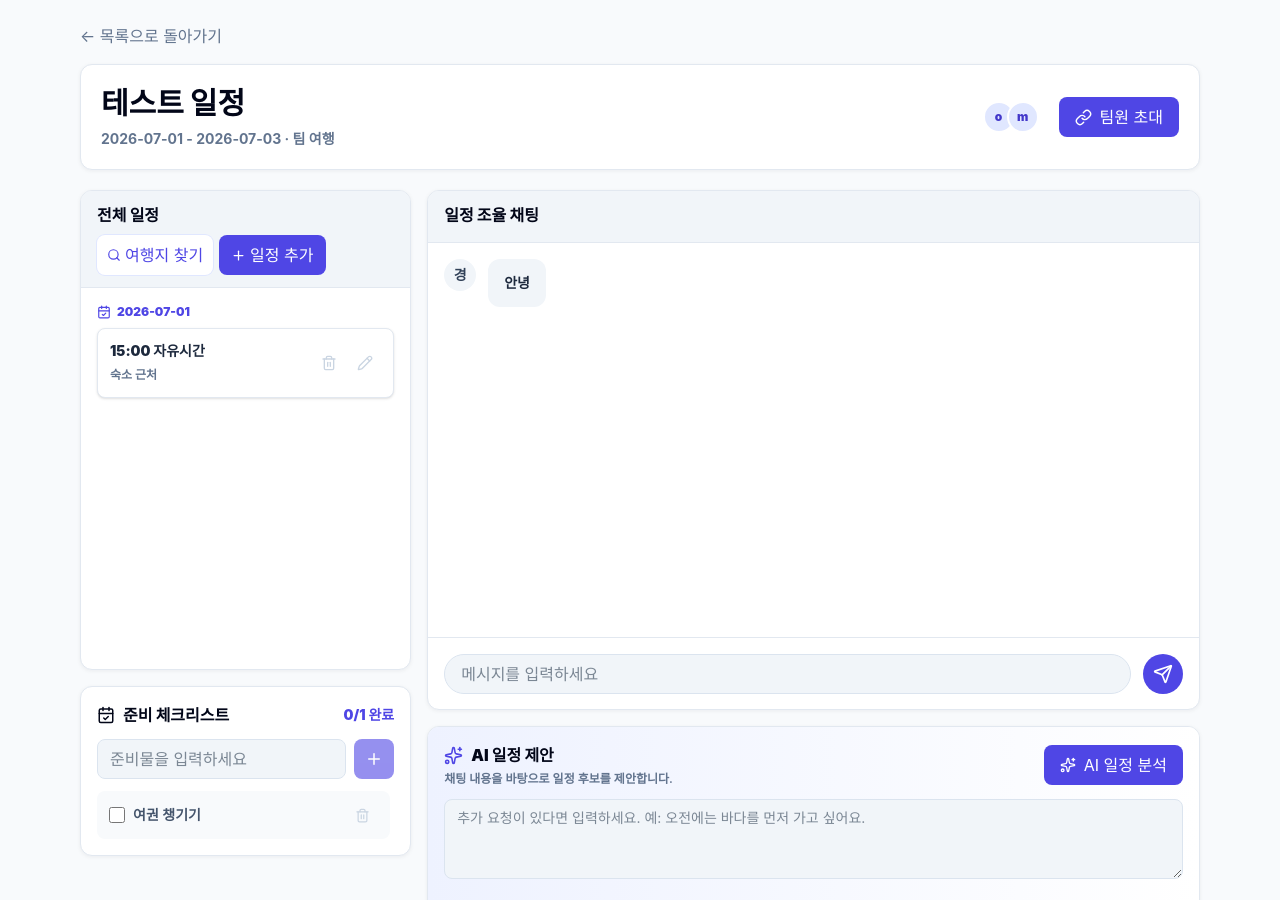
Test case: ScheduleDetailPage collaboration controls › does not allow changing a participant role to owner
The width and height of the screenshot is (1280, 900).
Click the button named "참여자 관리" at (1013,117), box [983,101,1043,133]
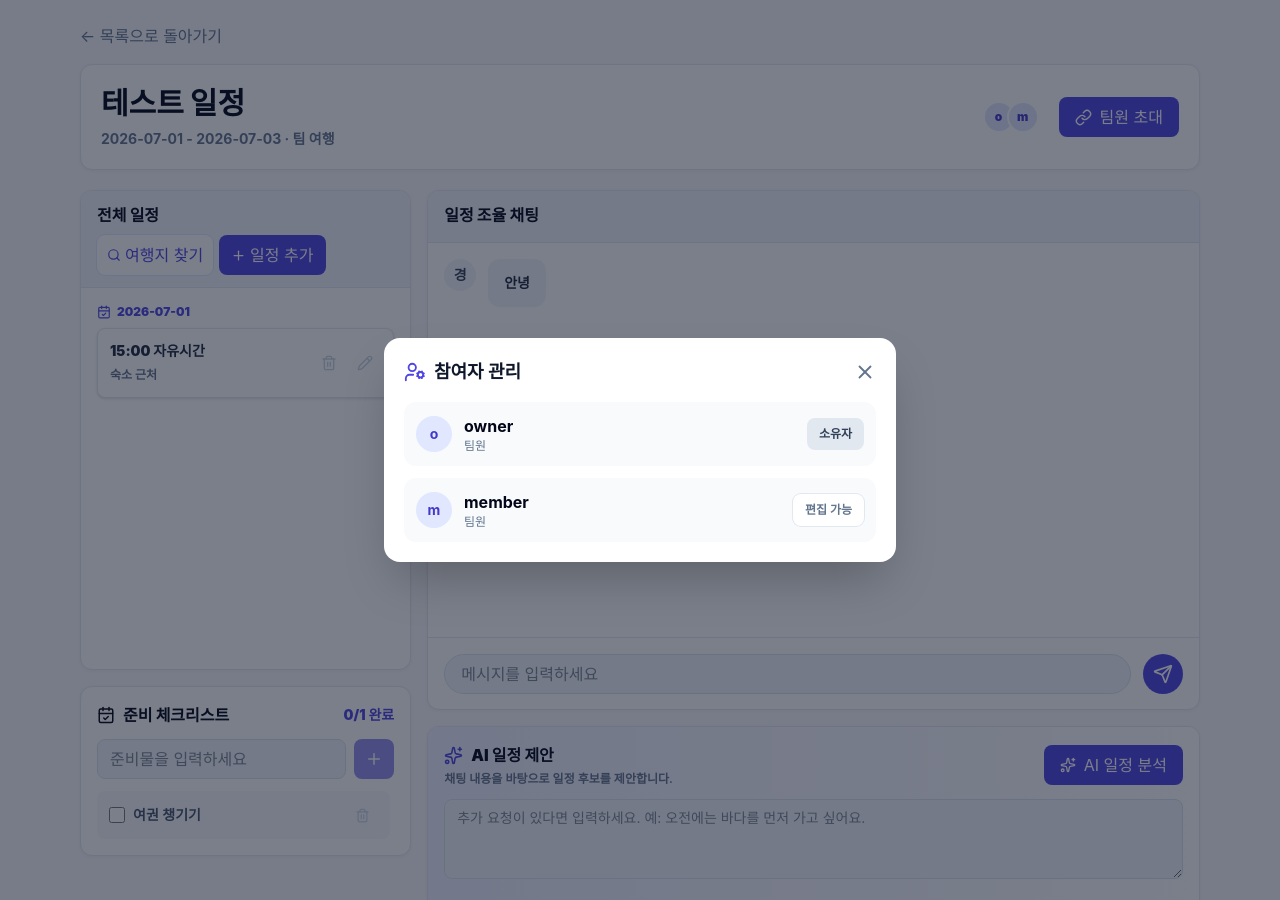
Expected: the text "소유자" is not shown
Now the text "소유자" is shown, box [807,418,864,450]
